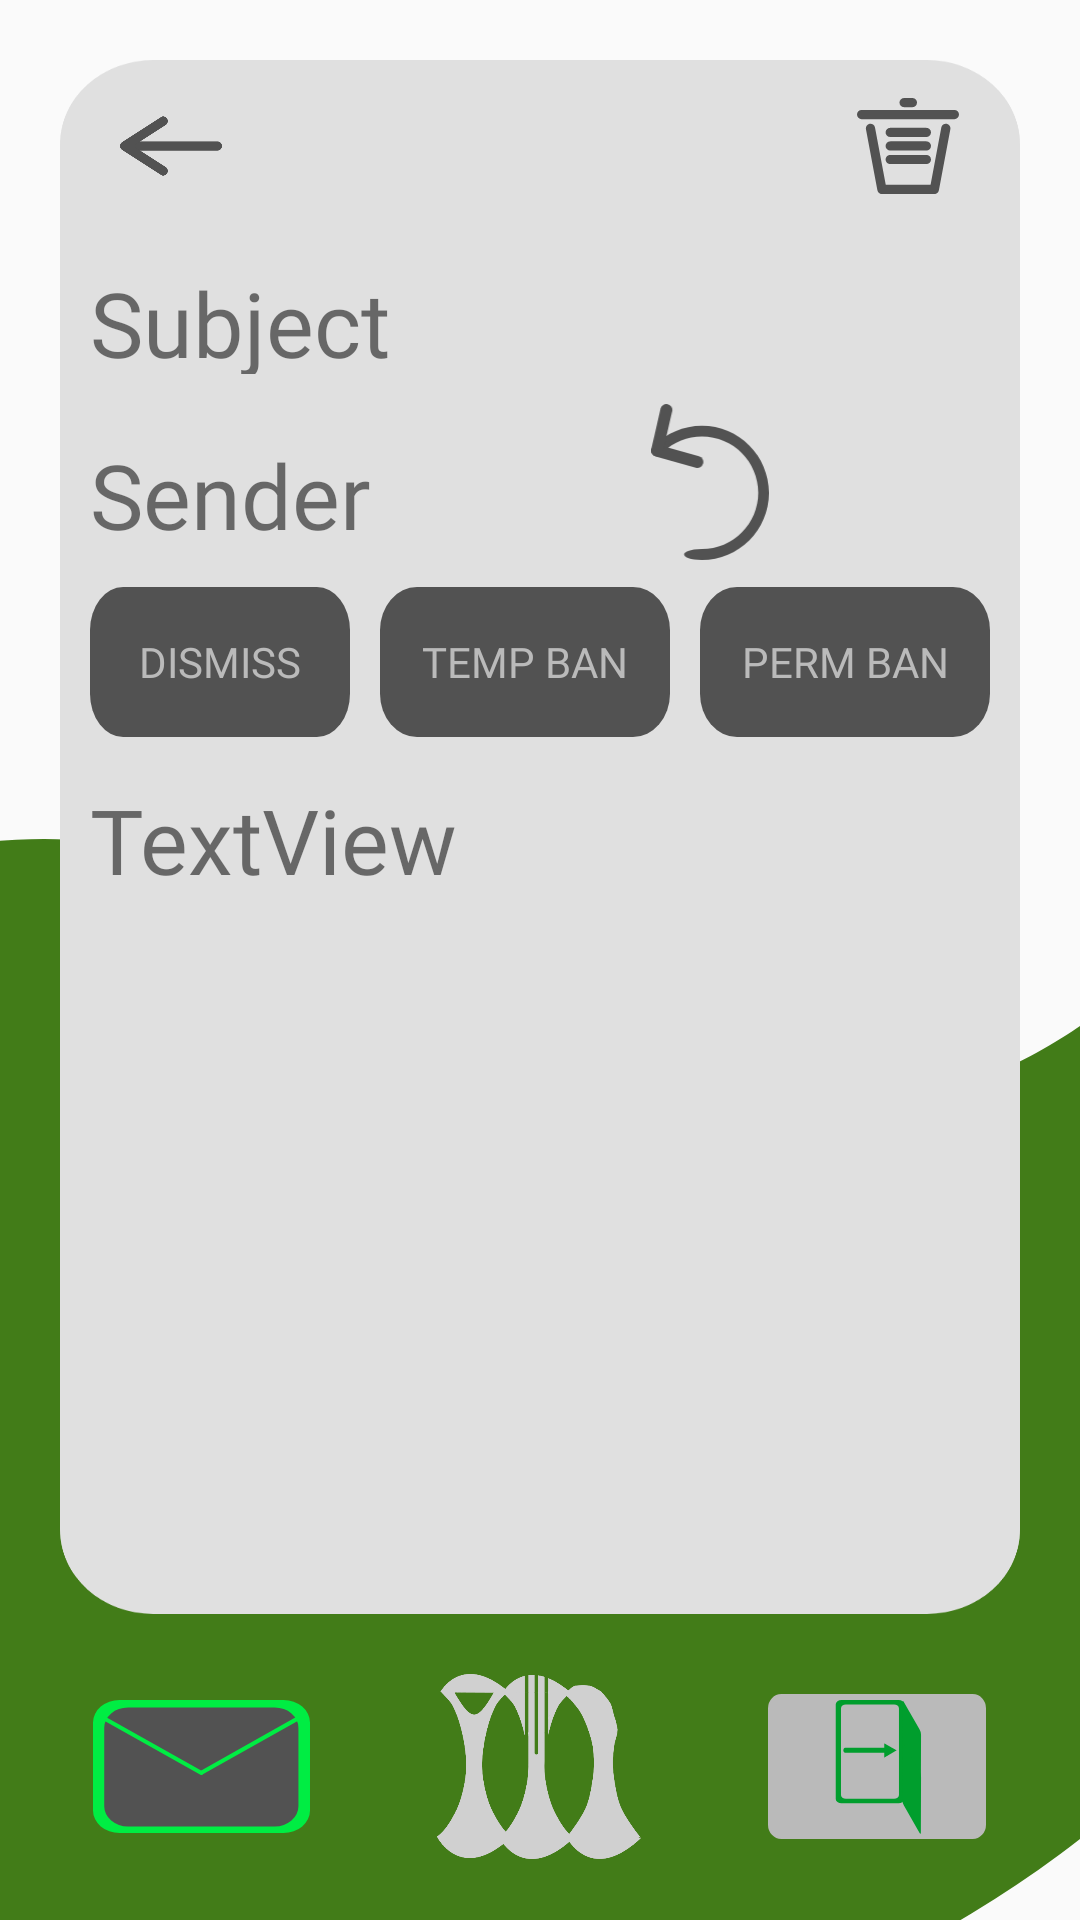

Icon bounding boxes for this 1080px×1920px phone screenshot, format (x1, y1, x2, y2):
arrow: (120, 116, 222, 176)
door: (768, 1694, 986, 1839)
message: (93, 1700, 310, 1833)
refresh: (651, 404, 769, 560)
trash: (857, 98, 959, 194)
